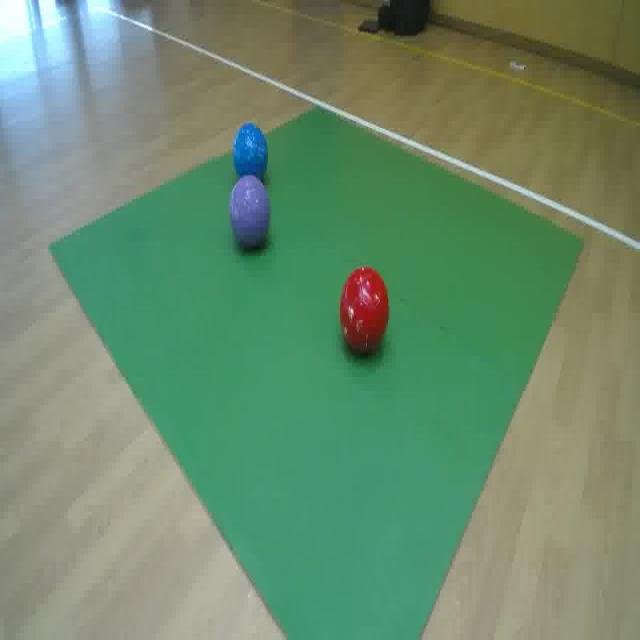blue_ball: (234, 124, 268, 178)
purple_ball: (231, 175, 271, 250)
red_ball: (341, 265, 389, 355)
